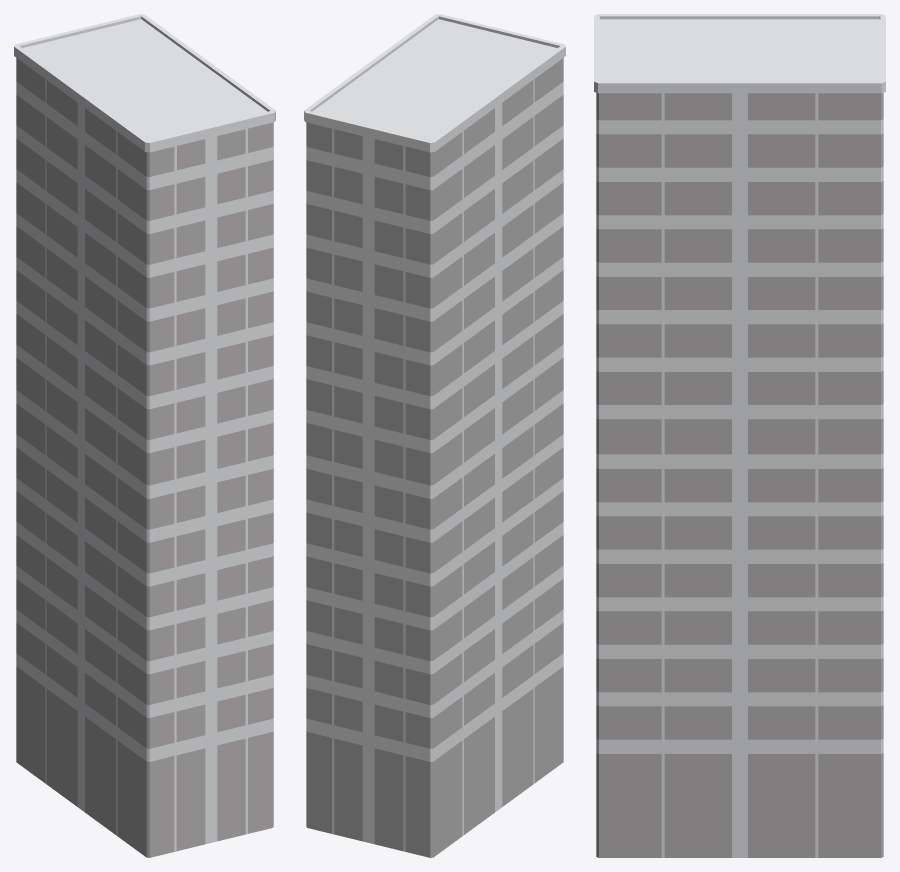
The model's file is Building_09.fbx.
The picture shows the model from 3 angles, left to right: view 1: azimuth 30°, elevation 25°; view 2: azimuth 150°, elevation 25°; view 3: azimuth 270°, elevation 25°; orthographic projection. The views are drawn at different scales.
Visible parts, largest first — view 1: Building_09; view 2: Building_09; view 3: Building_09.
Part boxes in pixels (box(x1,y1,x2,y2)): Building_09: box(14, 14, 275, 857); Building_09: box(304, 14, 565, 857); Building_09: box(594, 14, 885, 857).
Bounding box in the file's own units: 2163 × 11305 × 3856.
